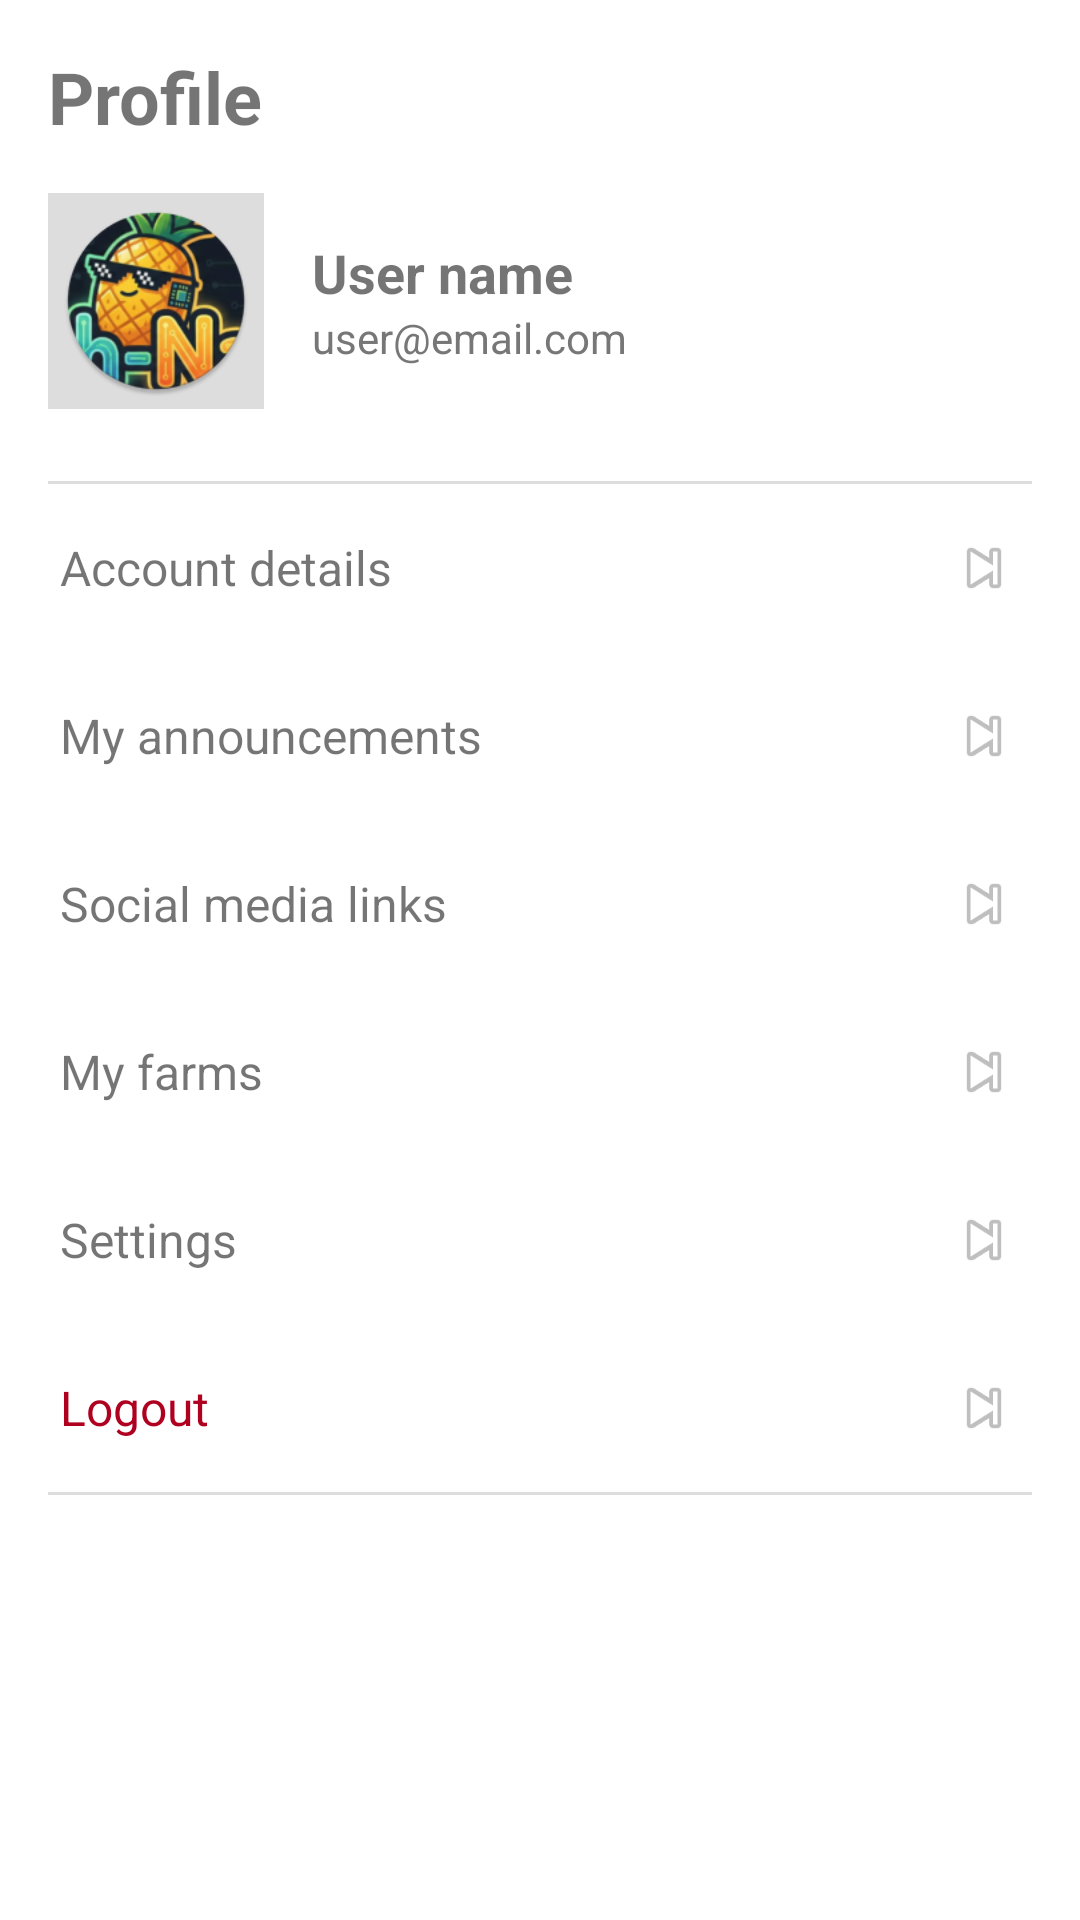

Locate icon controls on the screen. Image size 1080×1920, boxes as (x1, y1, x2, y2).
Go: (967, 548, 1001, 588), (967, 716, 1001, 756), (967, 884, 1001, 924), (967, 1052, 1001, 1092), (967, 1220, 1001, 1260), (967, 1388, 1001, 1428)
